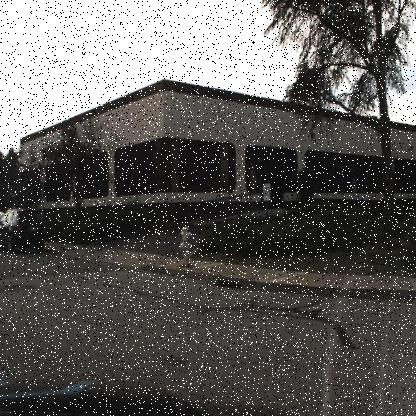car: (2, 204, 48, 257)
